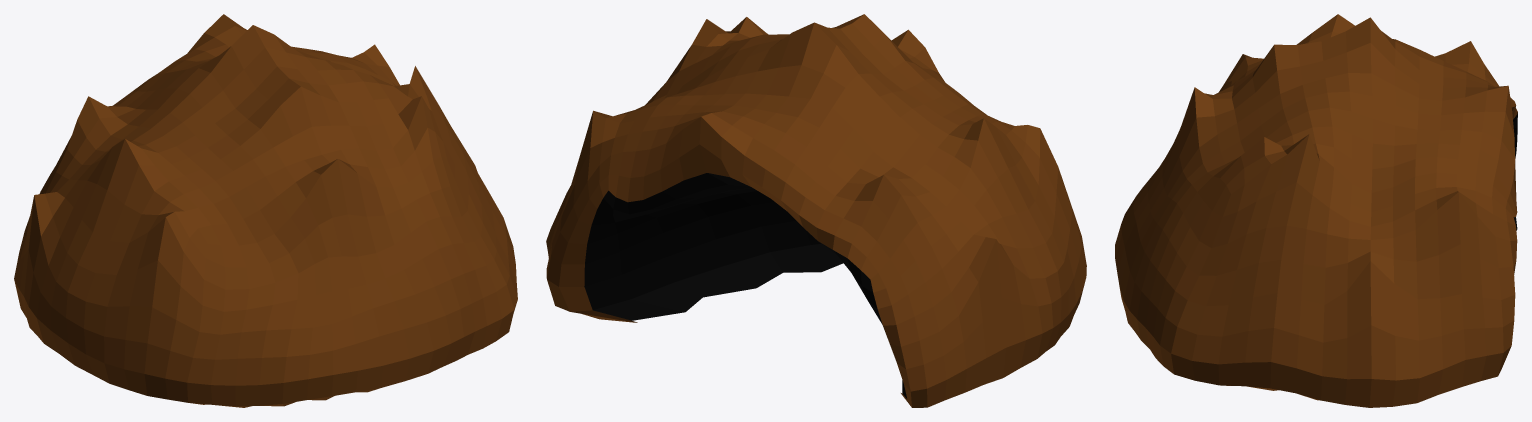
File: cave.gltf
3 views of the same model, side by side, from view 1: azimuth 30°, elevation 25°; view 2: azimuth 150°, elevation 25°; view 3: azimuth 270°, elevation 25° (orthographic). The views are drawn at different scales.
Visible parts, largest first — view 1: Cube; view 2: Cube; view 3: Cube.
Boxes of the visible parts, x1,y1,x2,y2 form: Cube: [14, 14, 517, 407]; Cube: [546, 14, 1086, 407]; Cube: [1115, 14, 1517, 407].
Size of the model in its own units: 18.2 by 11.21 by 13.83.
